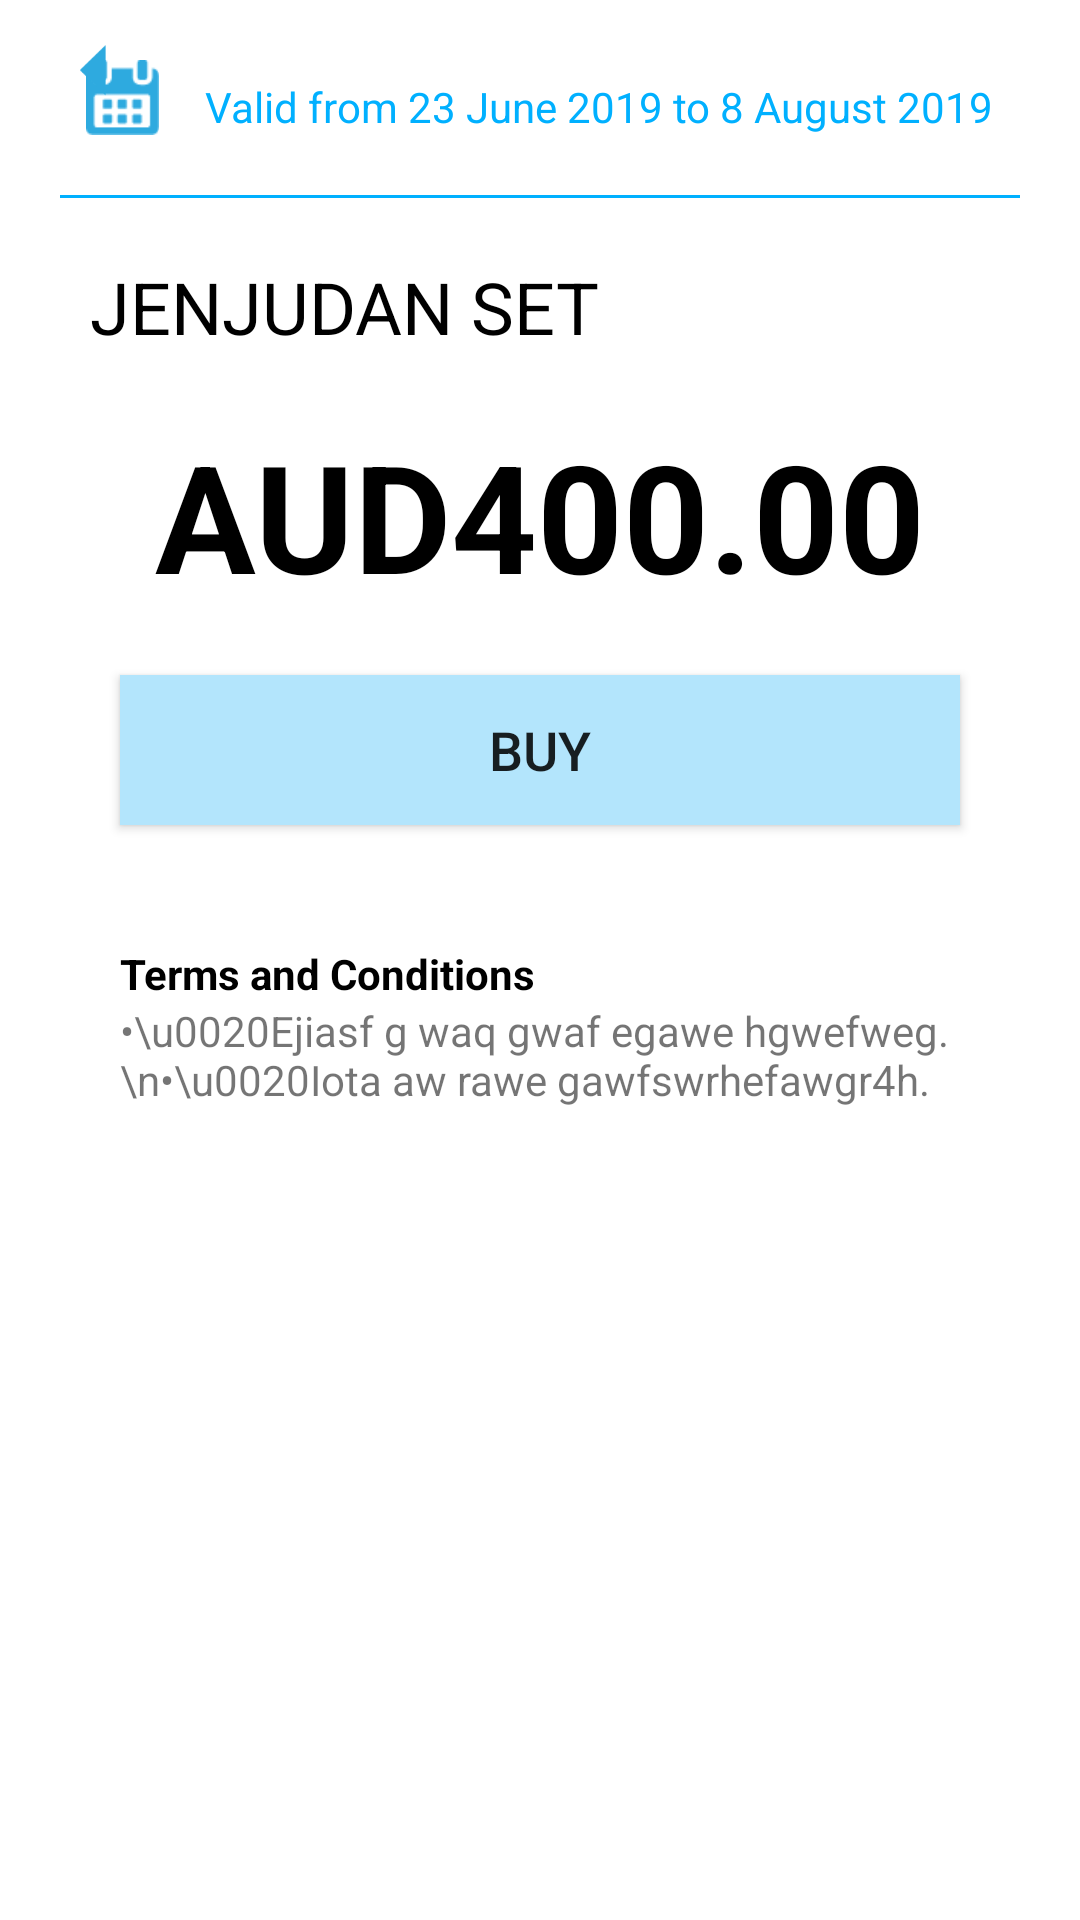

Named icons in this screenshot (1080 × 1920) and their centers, [x,y]:
calendar: [122,97]
